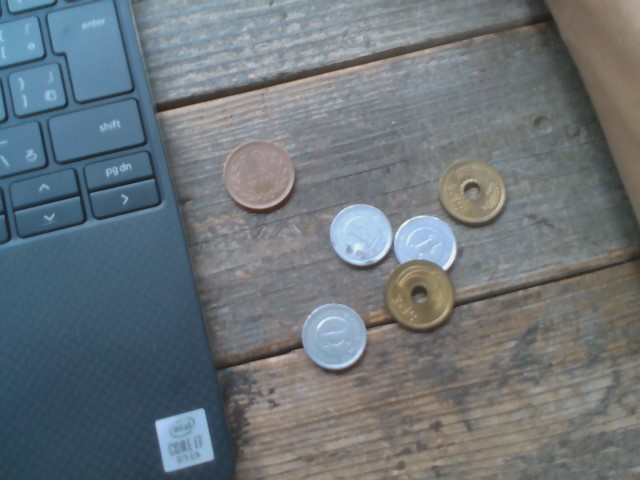10yen: (223, 140, 295, 212)
1yen: (302, 303, 367, 370), (330, 204, 393, 267), (394, 215, 457, 273)
